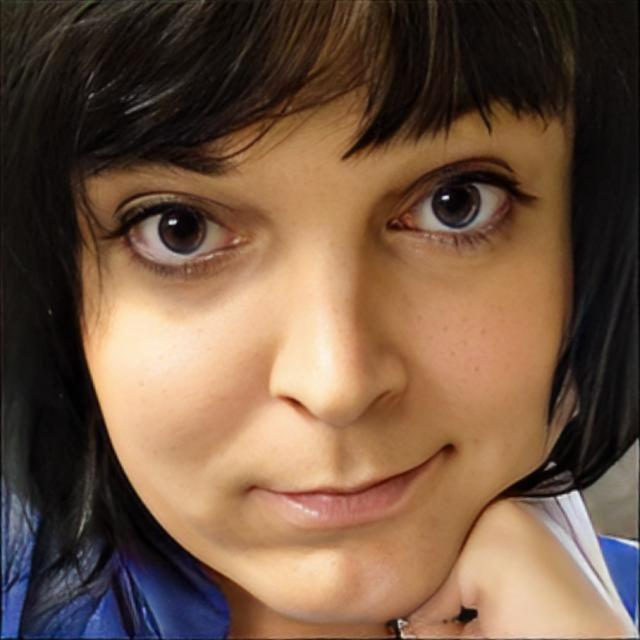content: (79, 69, 576, 622)
